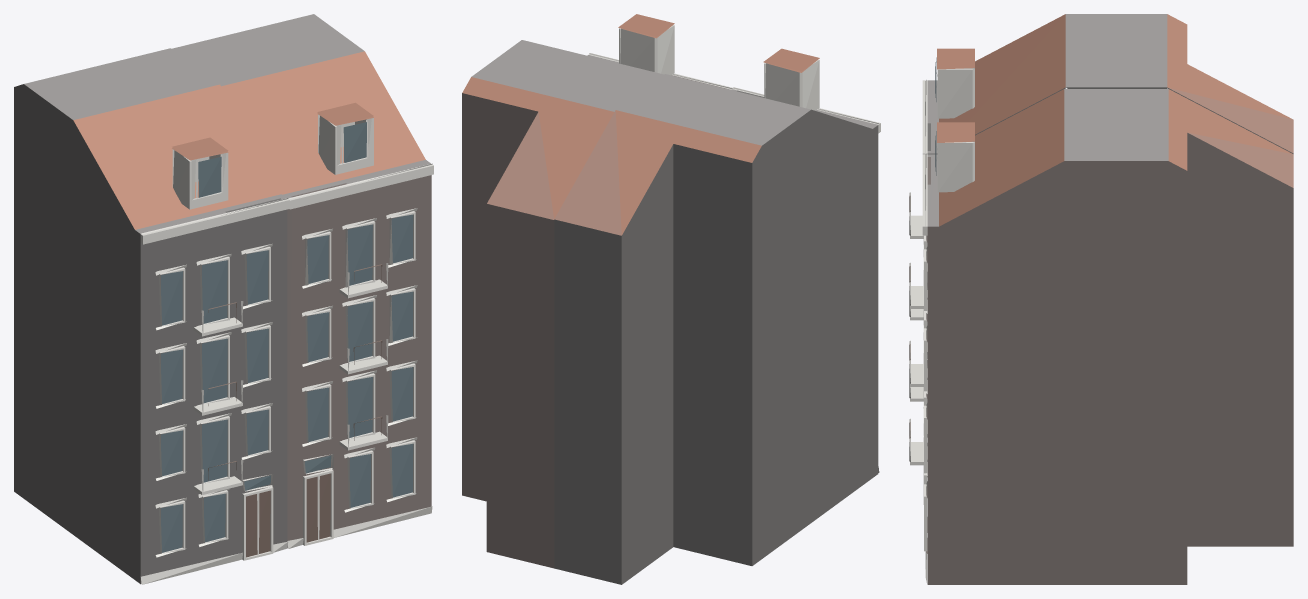
Rendered from chunk-face-transvaal-3-47-r1.lod2.glb.
3 views of the same model, side by side, from view 1: azimuth 30°, elevation 25°; view 2: azimuth 150°, elevation 25°; view 3: azimuth 270°, elevation 25° (orthographic). The views are drawn at different scales.
Visible parts, largest first — view 1: lod2; view 2: lod2; view 3: lod2.
Boxes of the visible parts, <box> form: lod2: <box>14,14,433,584</box>; lod2: <box>462,14,880,584</box>; lod2: <box>909,14,1293,584</box>.
Size of the model in its own units: 12.04 by 16.4 by 13.44.
